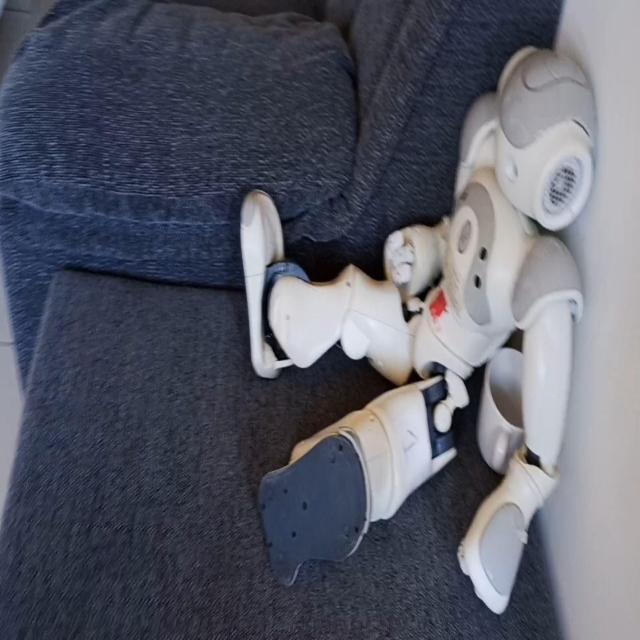cup: (474, 340, 543, 478)
